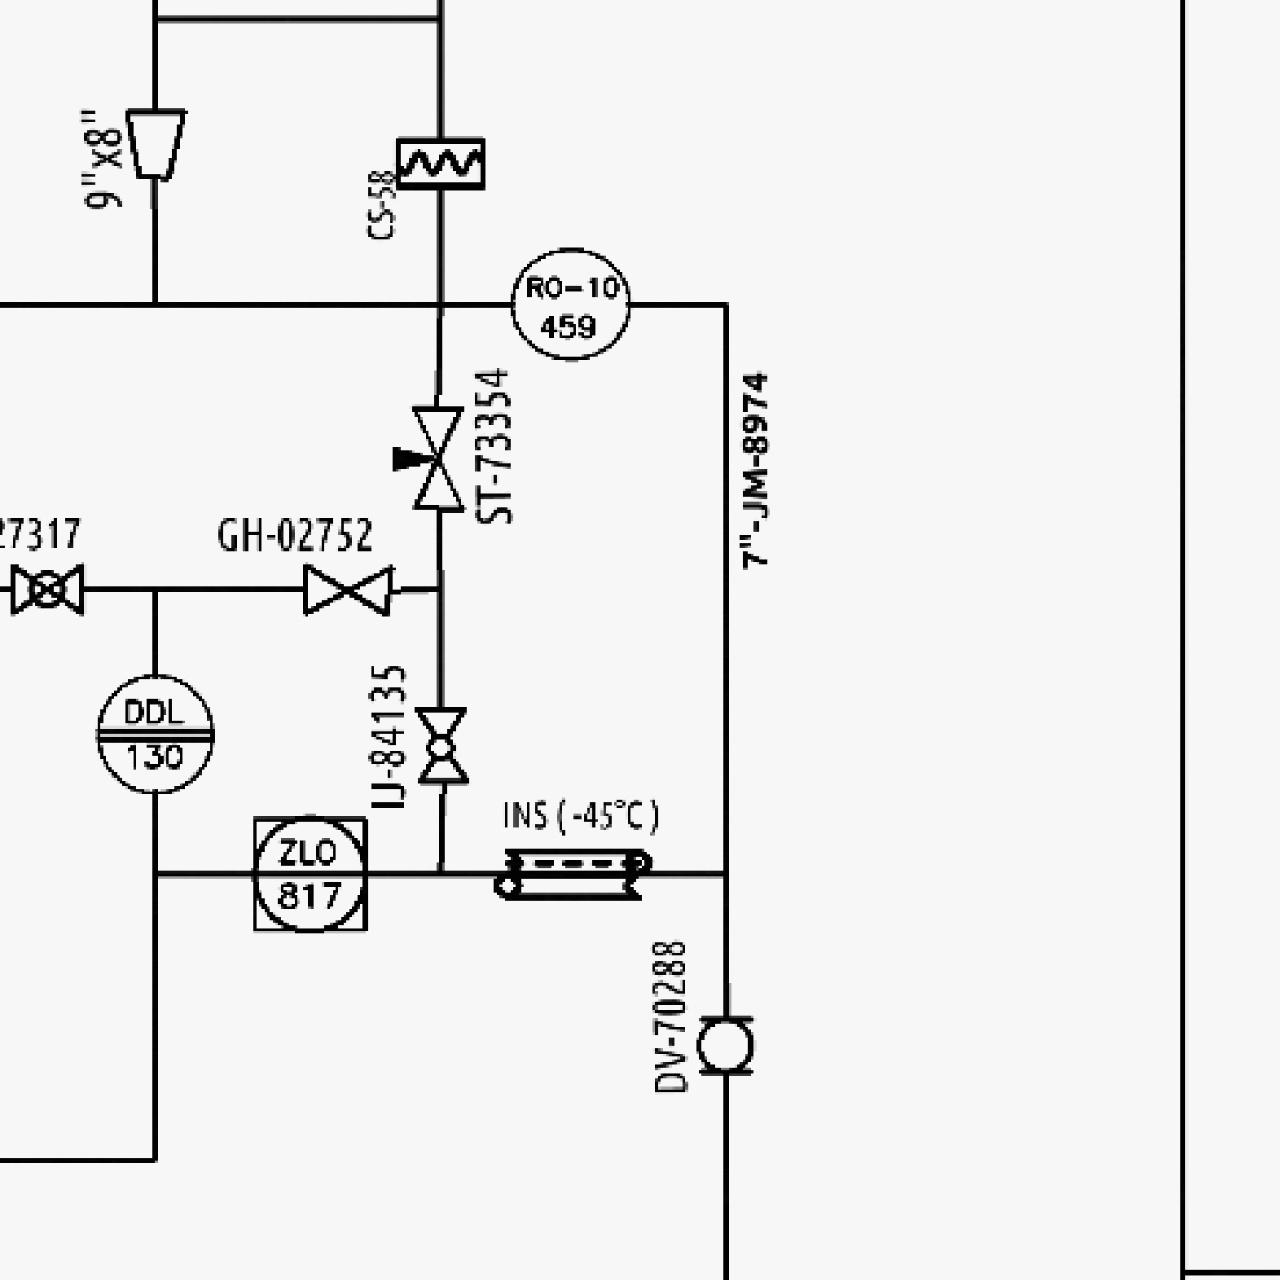Control-Panel: (505, 238, 635, 368), (89, 668, 219, 798)
